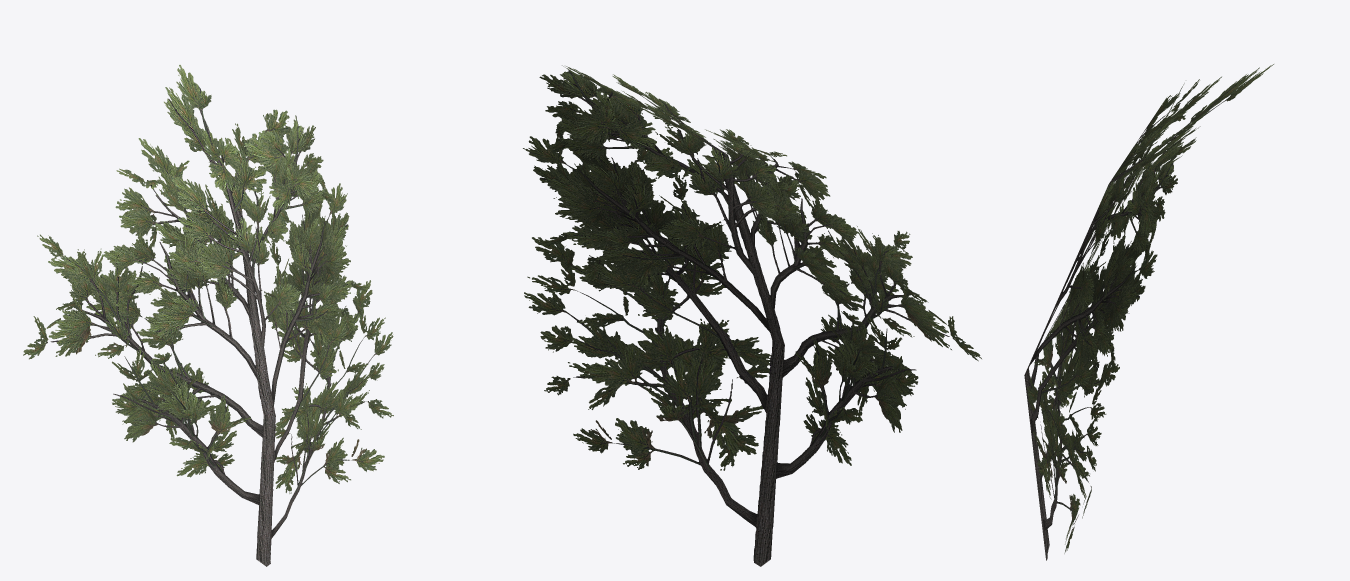
The model's file is branch_v3.fbx.
3 renders of one model, left to right at view 1: azimuth 30°, elevation 25°; view 2: azimuth 150°, elevation 25°; view 3: azimuth 270°, elevation 25°, orthographic. The views are drawn at different scales.
Visible parts, largest first — view 1: Polygon; view 2: Polygon; view 3: Polygon.
Boxes of the visible parts, bbox=[...] form: Polygon: bbox=[23, 65, 393, 566]; Polygon: bbox=[523, 65, 981, 566]; Polygon: bbox=[1024, 64, 1273, 560].
Size of the model in its own units: 174 by 200 by 104.
Materials: 1 (1 with a texture image).
